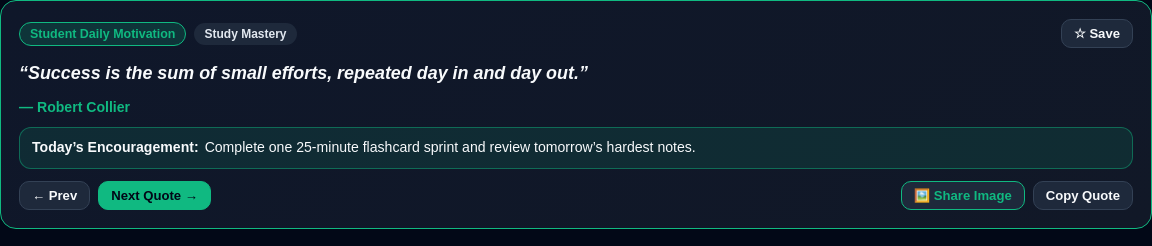
Test: DailyMotivationalQuoteWidgetComponent › cycles to next quote and saves favorites
Click the button with test id "quote-next-btn": (155, 195) [98,181,211,210]
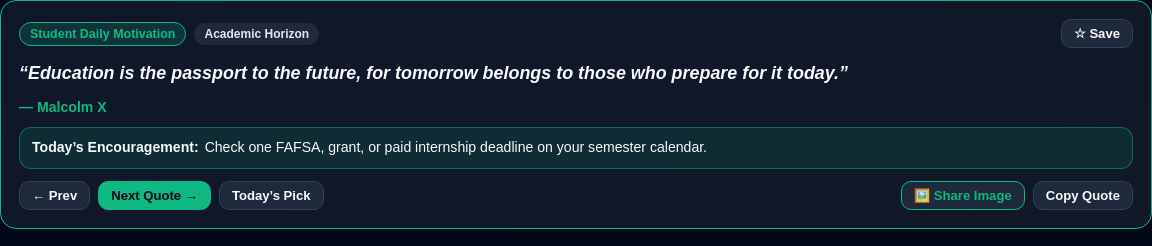
Click the button with test id "quote-favorite-btn": (1097, 34) [1061,19,1133,48]
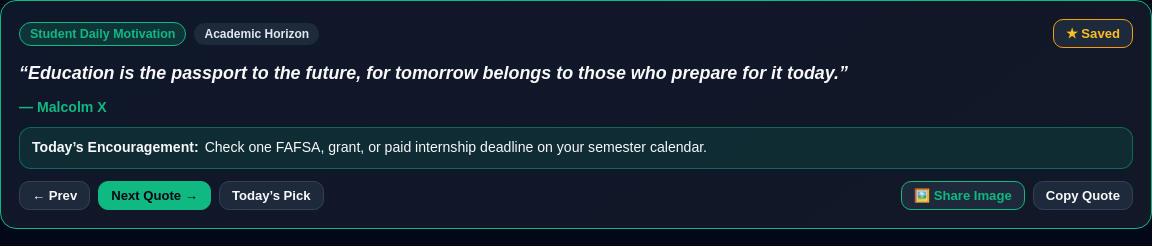
Expected: the button with test id "quote-favorite-btn" shows "Saved", [1053,19,1133,48]
